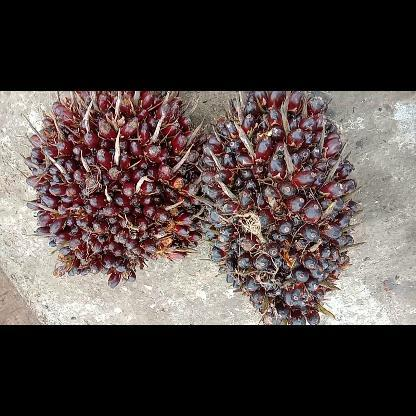Kurang masak: (202, 90, 361, 324)
TBS masak: (26, 92, 196, 288)
